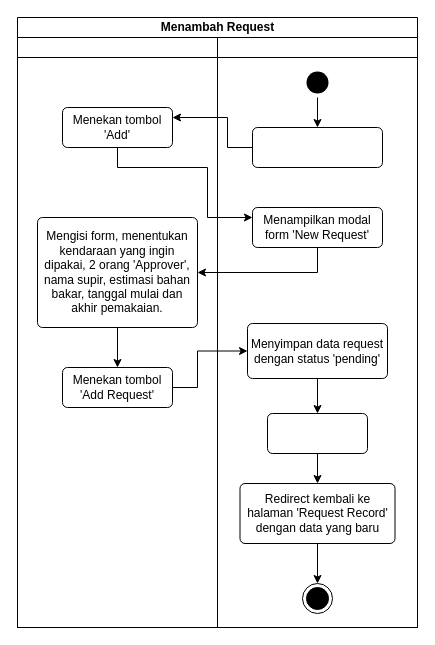
The diagram is 435 pixels wide and 645 high, and some of its shapes have lost their labels. The shapes that lost their labels are listed below. From the top down, each one's box as (x1, y1, x2, y2) in pixels, then its label:
(252, 126, 382, 168): Menampilkan halaman 'Request Record'
(16, 36, 218, 628): Admin
(216, 36, 418, 628): Sistem
(266, 412, 368, 454): Menyimpan ActivityLog baru
